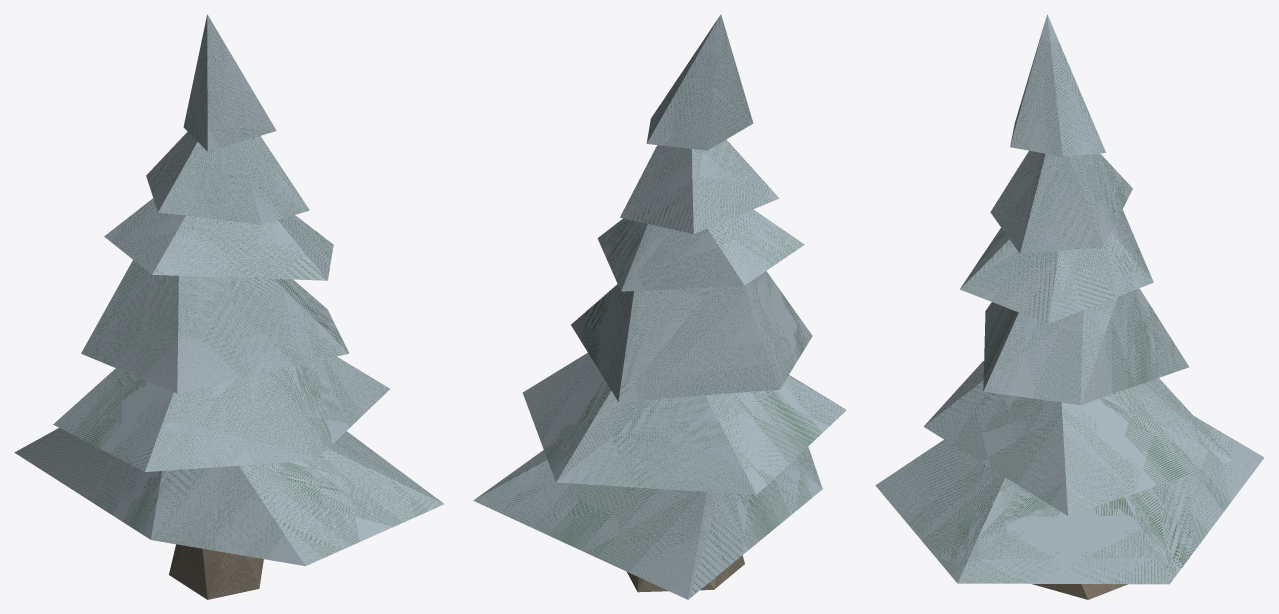
File: Tree_Pine_06.fbx
The picture shows the model from 3 angles, left to right: view 1: azimuth 30°, elevation 25°; view 2: azimuth 150°, elevation 25°; view 3: azimuth 270°, elevation 25°; orthographic projection. The views are drawn at different scales.
Parts seen in each view (by area): view 1: Model; view 2: Model; view 3: Model.
Part boxes in pixels (<box>): Model: <box>14,14,444,599</box>; Model: <box>473,14,846,599</box>; Model: <box>875,14,1264,599</box>.
Size of the model in its own units: 227 by 430 by 276.
